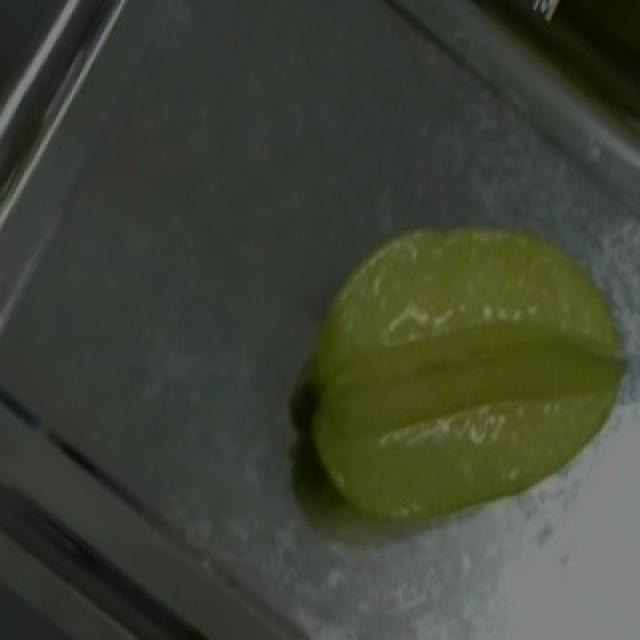fruit: (286, 166, 640, 563)
